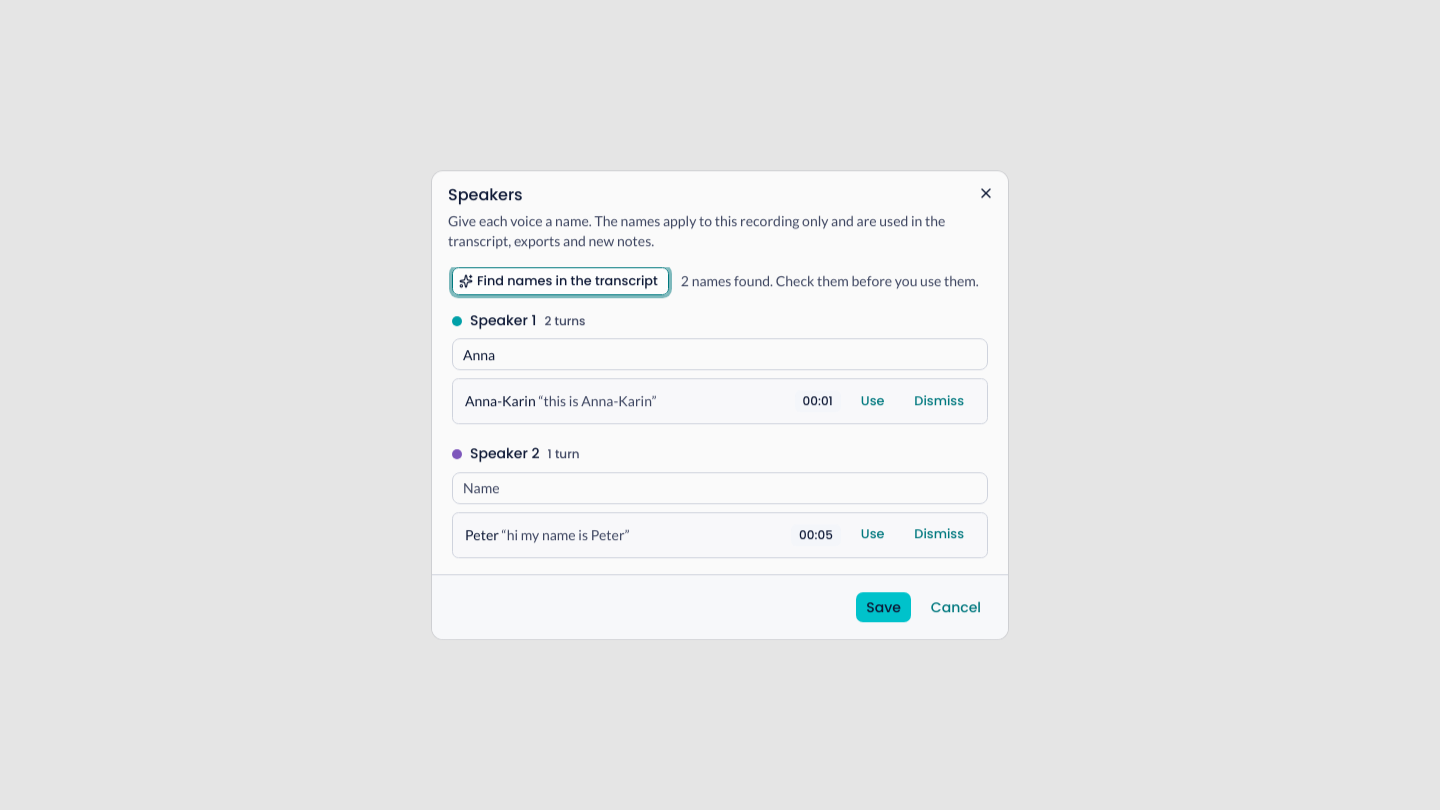
stays open while names are used one by one, and closes on Save
Later steps or results of the test are not shown.
Listening to the evidence does not close the dialog either.
Step 1. Click the button named "Listen at" → {"x": 818, "y": 402}, box [794,390,842,414]
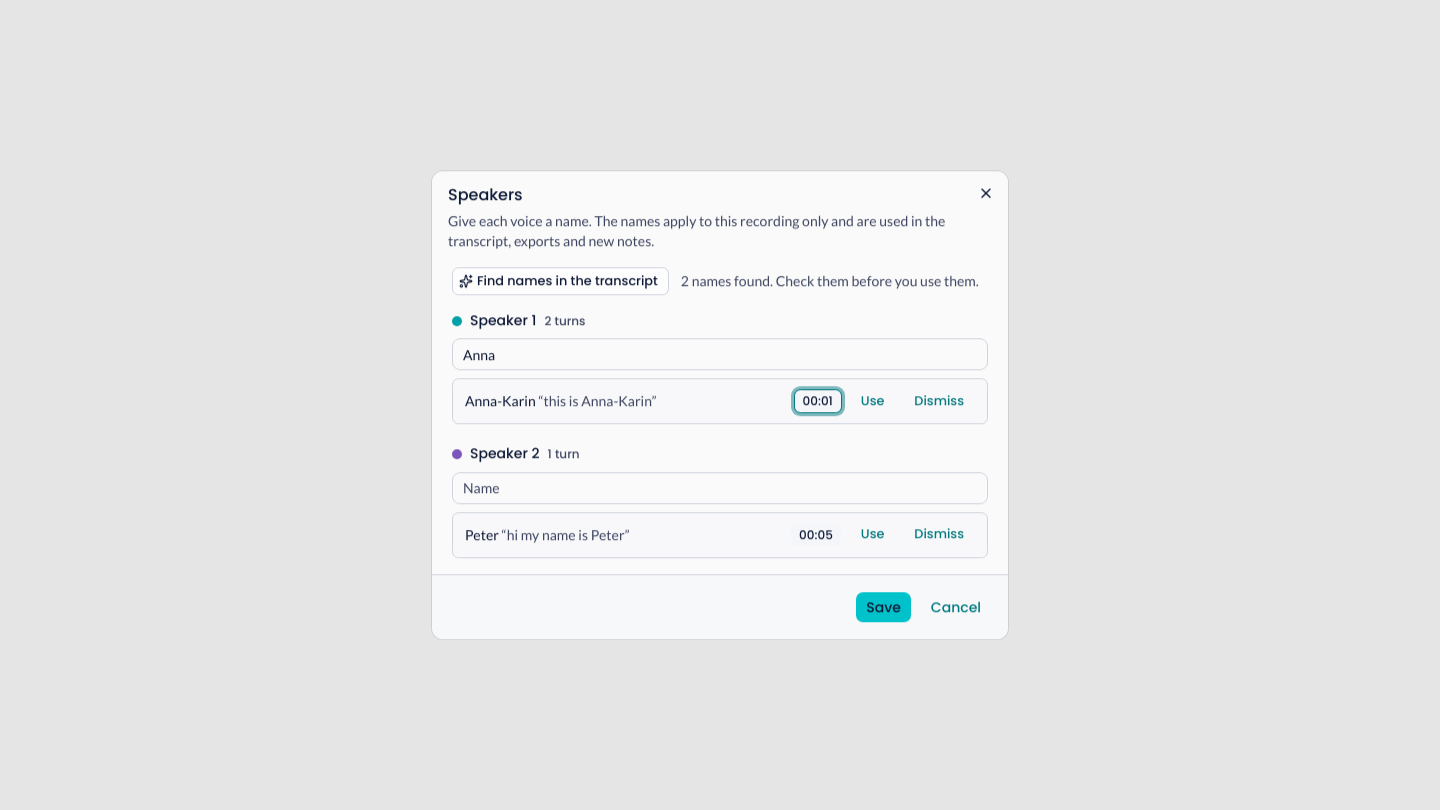
Step 2. Click the button with aria-label "Use Anna-Karin for Speaker 1" → {"x": 873, "y": 402}, box [850,388,895,416]
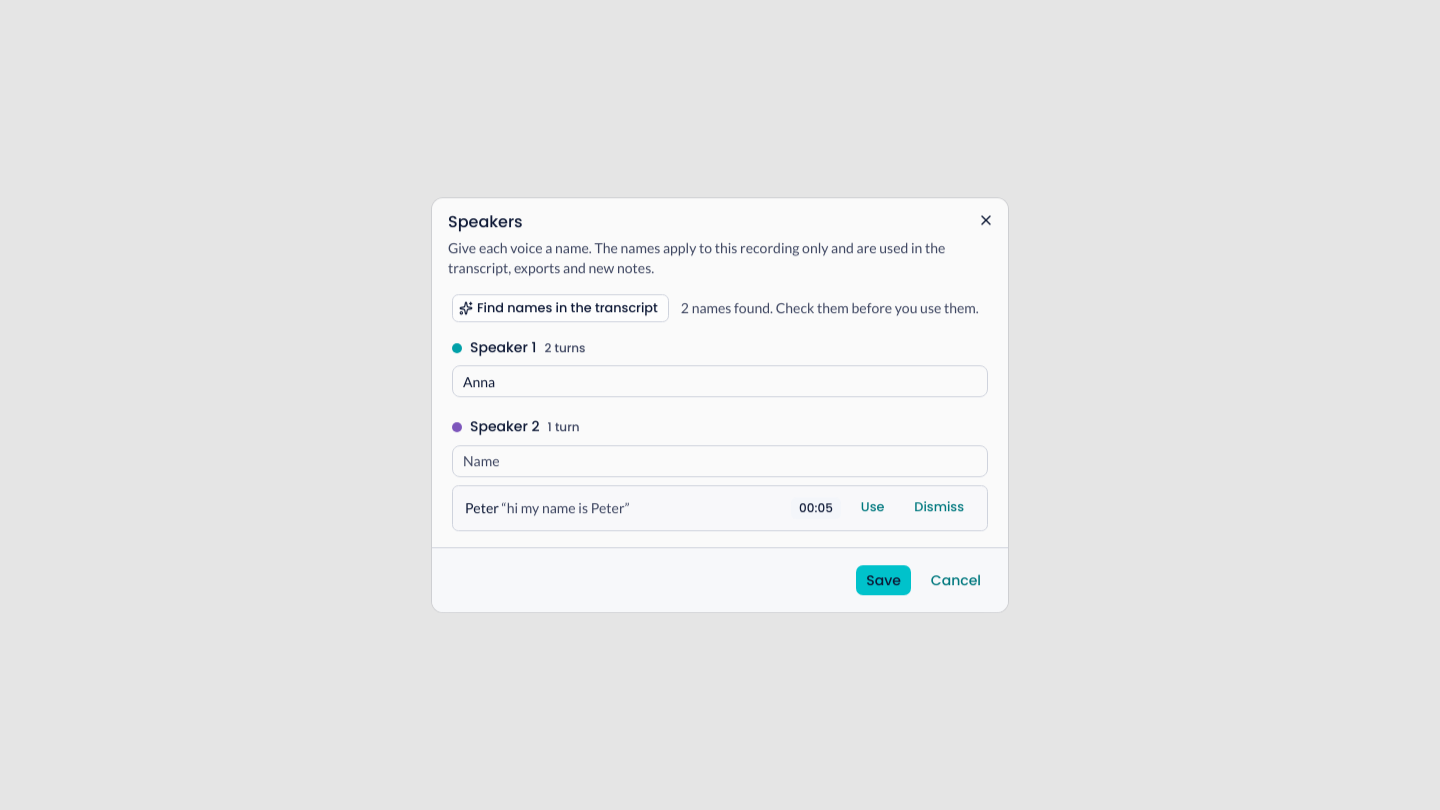
Expected: the text "“this is Anna-Karin”" is gone
